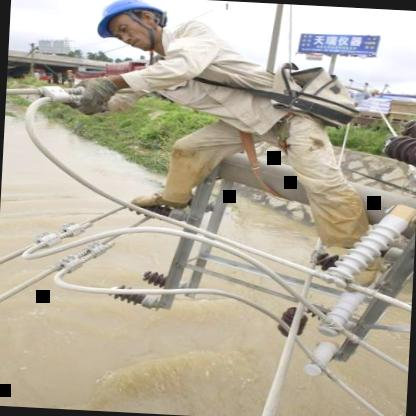helmet: (80, 0, 182, 58)
